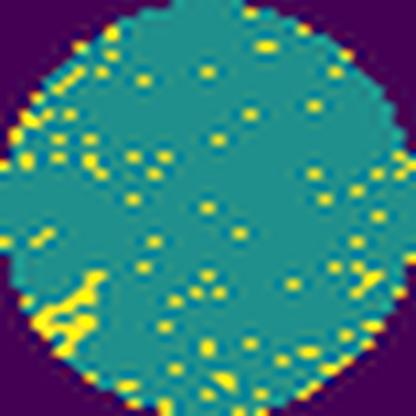Loc: (30, 267, 110, 355)
